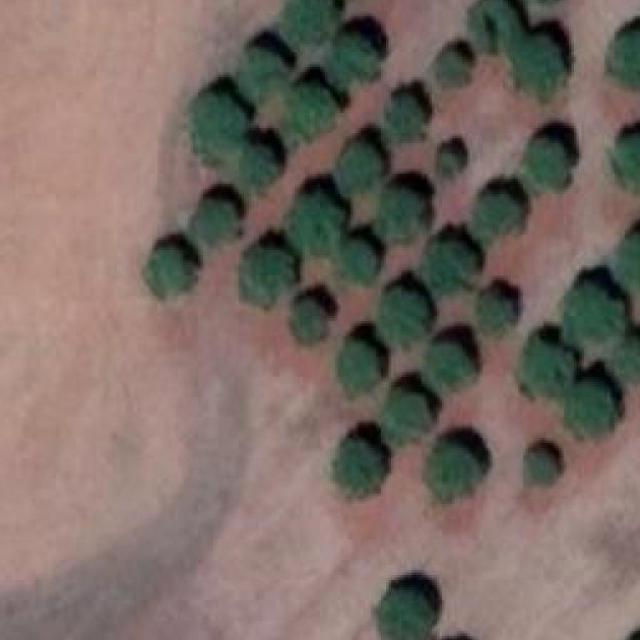Tree: (561, 280, 627, 346), (190, 90, 256, 156), (375, 184, 439, 245), (286, 192, 346, 253), (282, 82, 341, 141), (236, 245, 294, 304), (515, 336, 574, 392), (335, 433, 384, 499), (513, 36, 564, 96), (144, 245, 198, 301), (423, 446, 478, 500), (332, 141, 386, 195), (422, 242, 478, 294), (376, 587, 430, 640), (386, 385, 437, 441), (466, 0, 520, 52), (190, 197, 241, 251), (566, 382, 616, 436), (339, 334, 383, 395), (472, 189, 526, 238), (525, 136, 576, 187), (238, 48, 288, 98), (335, 31, 386, 80), (274, 0, 333, 42), (383, 294, 427, 348), (472, 286, 513, 340), (429, 341, 474, 390), (385, 94, 429, 144), (604, 30, 640, 86), (238, 146, 281, 190), (337, 240, 378, 283), (613, 133, 640, 191), (290, 298, 328, 336), (617, 231, 640, 290), (434, 49, 469, 87), (615, 336, 640, 385), (525, 451, 561, 485), (436, 146, 469, 177)
